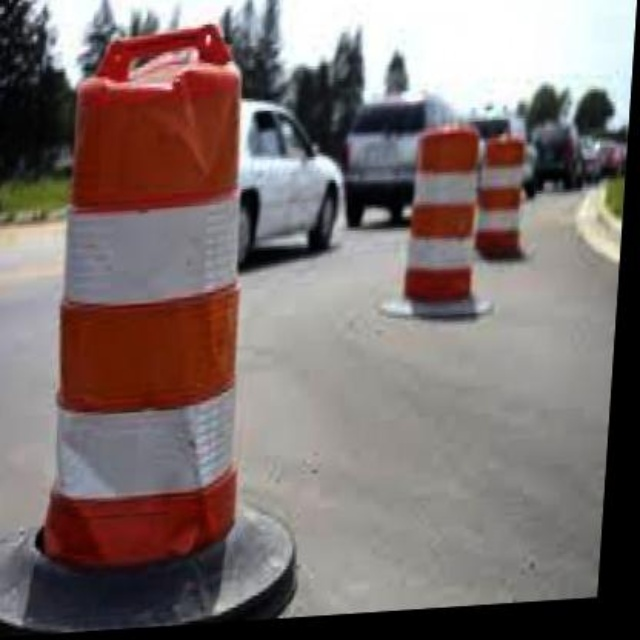obstacle: (31, 16, 286, 595), (399, 128, 488, 321), (479, 143, 536, 281)
